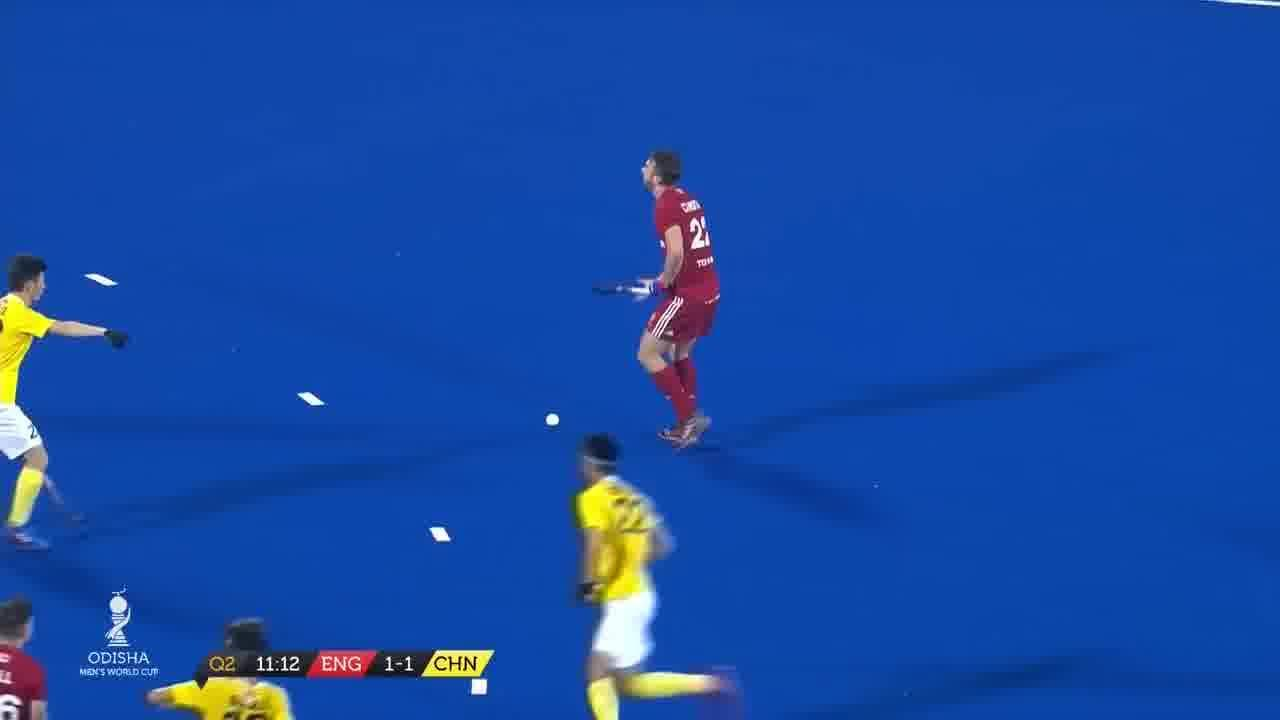ball: (546, 404, 564, 434)
